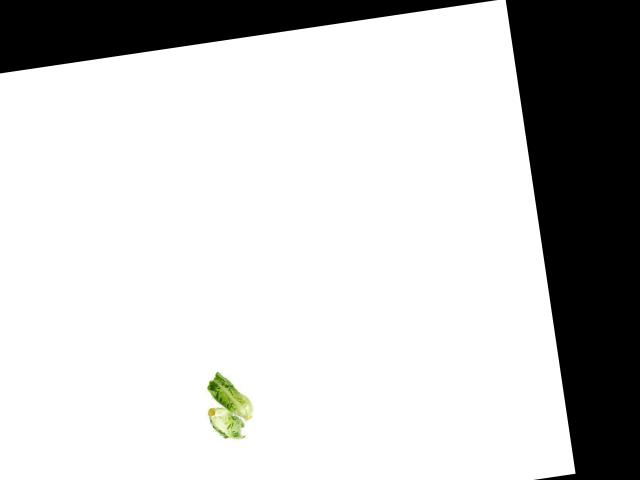lettuce: (201, 401, 247, 445)
